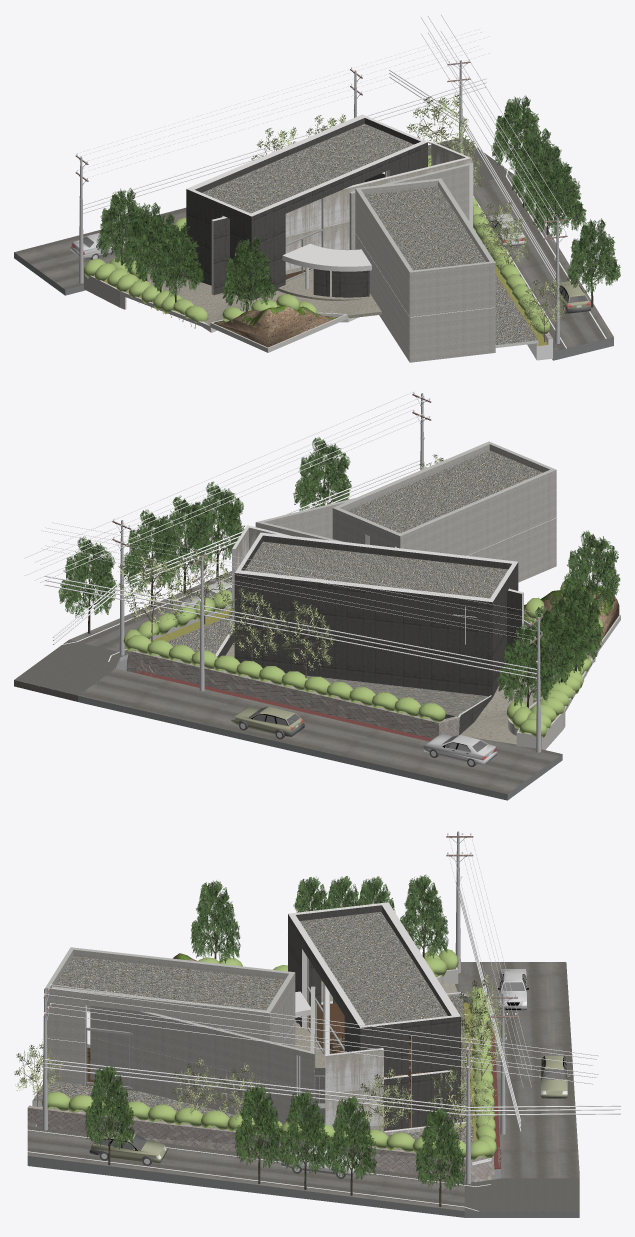
Rendered from iglesia_de_la_luz_osaka_japon.glb.
3 renders of one model, top to bottom at view 1: azimuth 30°, elevation 25°; view 2: azimuth 150°, elevation 25°; view 3: azimuth 270°, elevation 25°, orthographic. The views are drawn at different scales.
Visible parts, largest first — view 1: Material2_10, Material2_18, Material2_1, Material2_36, Material2_25, Material2_35, Material2, Material2_39, Material2_2, Material2_23, Material2_37, Material2_3 (+12 smaller); view 2: Material2_1, Material2_10, Material2_25, Material2_18, Material2, Material2_36, Material2_39, Material2_35, Material2_20, Material2_37, Material2_34, Material2_24 (+15 smaller); view 3: Material2_25, Material2_18, Material2_10, Material2_1, Material2, Material2_36, Material2_39, Material2_35, Material2_37, Material2_20, Material2_24, Material2_34 (+18 smaller).
Part boxes in pixels (left/top/right/bottom): Material2_10: left=160, top=123, right=537, bottom=344; Material2_18: left=351, top=165, right=495, bottom=362; Material2_1: left=153, top=118, right=427, bottom=300; Material2_36: left=111, top=95, right=620, bottom=295; Material2_25: left=14, top=174, right=613, bottom=351; Material2_35: left=96, top=185, right=564, bottom=313; Material2: left=76, top=14, right=566, bottom=360; Material2_39: left=83, top=155, right=550, bottom=334; Material2_2: left=187, top=114, right=470, bottom=295; Material2_23: left=285, top=143, right=471, bottom=274; Material2_37: left=121, top=128, right=586, bottom=274; Material2_3: left=147, top=265, right=381, bottom=325; Material2_1: left=217, top=535, right=521, bottom=734; Material2_10: left=167, top=450, right=542, bottom=716; Material2_25: left=14, top=571, right=561, bottom=793; Material2_18: left=255, top=444, right=556, bottom=582; Material2: left=24, top=391, right=555, bottom=678; Material2_36: left=58, top=437, right=603, bottom=673; Material2_39: left=123, top=578, right=603, bottom=737; Material2_35: left=497, top=530, right=620, bottom=706; Material2_20: left=126, top=650, right=459, bottom=738; Material2_37: left=123, top=495, right=583, bottom=673; Material2_34: left=117, top=455, right=443, bottom=670; Material2_24: left=78, top=659, right=562, bottom=800; Material2_25: left=27, top=962, right=579, bottom=1210; Material2_18: left=45, top=949, right=315, bottom=1124; Material2_10: left=32, top=912, right=473, bottom=1149; Material2_1: left=288, top=905, right=473, bottom=1133; Material2: left=15, top=833, right=620, bottom=1163; Material2_36: left=84, top=876, right=465, bottom=1190; Material2_39: left=41, top=949, right=496, bottom=1160; Material2_35: left=190, top=874, right=448, bottom=1156; Material2_37: left=235, top=876, right=420, bottom=1179; Material2_20: left=27, top=993, right=494, bottom=1182; Material2_24: left=27, top=1156, right=579, bottom=1217; Material2_34: left=15, top=972, right=506, bottom=1134.
Size of what is drawn, in the model's own units: 51.53 by 14.91 by 51.04.
66 materials, 26 textured.
